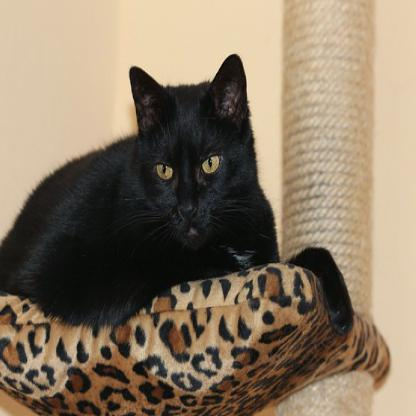cat: (1, 54, 276, 319)
